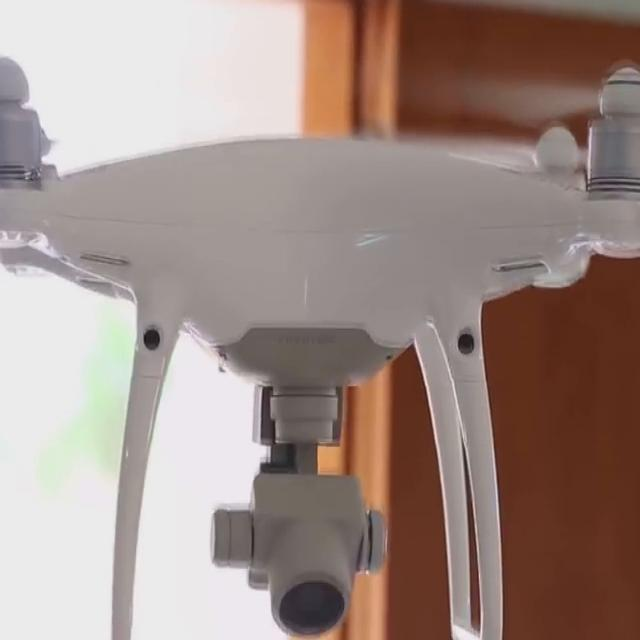drone: (0, 19, 640, 475)
